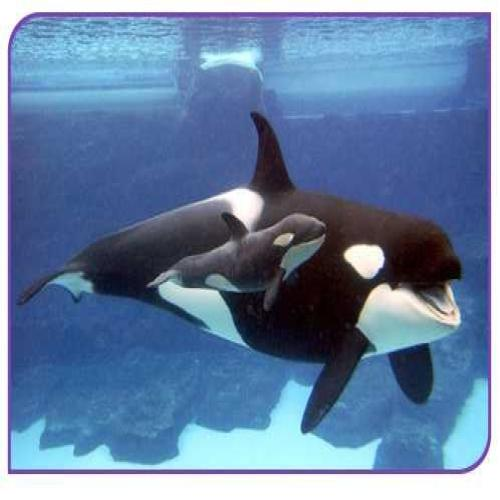killer_whale-endangered: (211, 119, 474, 425), (156, 202, 336, 310)
